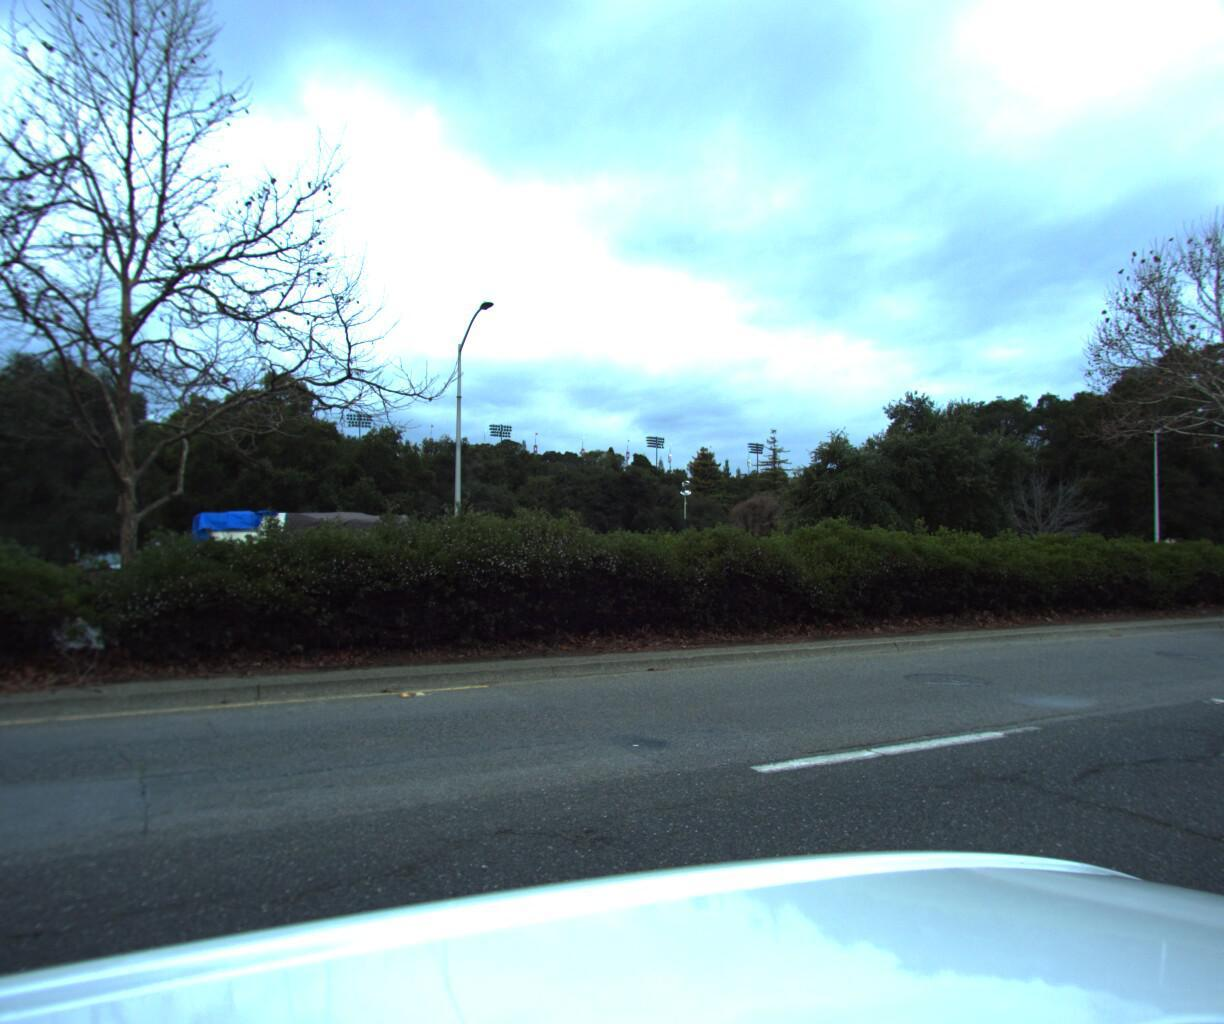other_vehicle: (172, 503, 429, 631)
